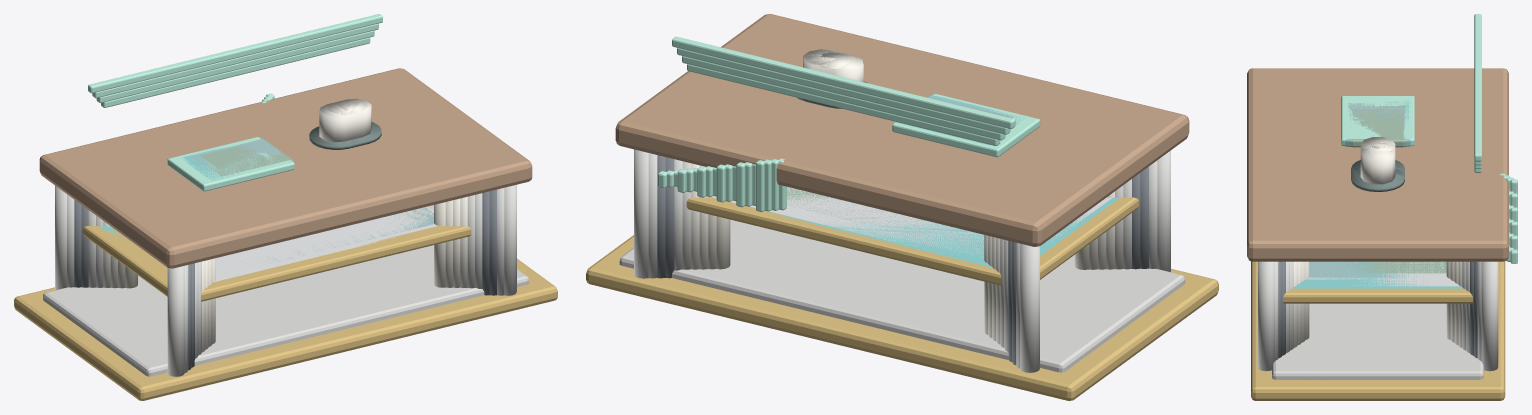
The model's file is Gear07.fbx.
The picture shows the model from 3 angles, left to right: view 1: azimuth 30°, elevation 25°; view 2: azimuth 150°, elevation 25°; view 3: azimuth 270°, elevation 25°; orthographic projection. The views are drawn at different scales.
Parts seen in each view (by area): view 1: Gear07_V10_Wood, Gear07_V6_Wood, Gear07_V9_Wood, Gear07_V10_Gold, Gear07_V6_Chrome, Gear07_V7_Wood, Gear07_V5_Chrome, Gear07_V9_Gold, Gear07_V10_Chrome, Gear07_V7_Chrome, Gear07_V5_Platinum, Gear07_V10_Glow (+22 smaller); view 2: Gear07_V10_Wood, Gear07_V10_Gold, Gear07_V5_Chrome, Gear07_V2_Wood, Gear07_V8_Wood, Gear07_V7_Wood, Gear07_V10_Chrome, Gear07_V7_Chrome, Gear07_V6_Wood, Gear07_V10_Glow, Gear07_V5_Wood, Gear07_V3_Wood (+21 smaller); view 3: Gear07_V10_Wood, Gear07_V3_Wood, Gear07_V6_Wood, Gear07_V1_Wood, Gear07_V8_Chrome, Gear07_V10_Gold, Gear07_V9_Wood, Gear07_V10_Chrome, Gear07_V7_Wood, Gear07_V10_Glow, Gear07_V2_Wood, Gear07_V8_Wood (+21 smaller).
Part boxes in pixels (x1,y1,x2,y2): Gear07_V10_Wood: (39, 68, 532, 268); Gear07_V6_Wood: (76, 80, 496, 235); Gear07_V9_Wood: (52, 71, 518, 244); Gear07_V10_Gold: (14, 226, 557, 400); Gear07_V6_Chrome: (68, 193, 482, 365); Gear07_V7_Wood: (67, 78, 503, 239); Gear07_V5_Chrome: (75, 195, 481, 357); Gear07_V9_Gold: (23, 205, 550, 397); Gear07_V10_Chrome: (43, 184, 528, 376); Gear07_V7_Chrome: (63, 245, 484, 365); Gear07_V5_Platinum: (215, 205, 437, 279); Gear07_V10_Glow: (88, 14, 382, 191); Gear07_V10_Wood: (615, 14, 1189, 246); Gear07_V10_Gold: (586, 197, 1218, 400); Gear07_V5_Chrome: (682, 161, 1134, 359); Gear07_V2_Wood: (691, 39, 1095, 196); Gear07_V8_Wood: (639, 22, 1143, 215); Gear07_V7_Wood: (677, 23, 1155, 212); Gear07_V10_Chrome: (619, 149, 1185, 372); Gear07_V7_Chrome: (680, 220, 1091, 365); Gear07_V6_Wood: (701, 29, 1142, 209); Gear07_V10_Glow: (658, 36, 1040, 211); Gear07_V5_Wood: (665, 30, 1098, 204); Gear07_V3_Wood: (690, 36, 1104, 199); Gear07_V10_Wood: (1247, 68, 1508, 261); Gear07_V3_Wood: (1279, 86, 1476, 222); Gear07_V6_Wood: (1268, 78, 1487, 230); Gear07_V1_Wood: (1287, 92, 1468, 217); Gear07_V8_Chrome: (1273, 303, 1481, 366); Gear07_V10_Gold: (1251, 261, 1505, 400); Gear07_V9_Wood: (1256, 71, 1499, 237); Gear07_V10_Chrome: (1258, 261, 1498, 379); Gear07_V7_Wood: (1264, 76, 1491, 232); Gear07_V10_Glow: (1341, 14, 1517, 263); Gear07_V2_Wood: (1283, 89, 1472, 219); Gear07_V8_Wood: (1260, 73, 1495, 235).
Bounding box in the file's own units: 125 × 62.12 × 70.3.
